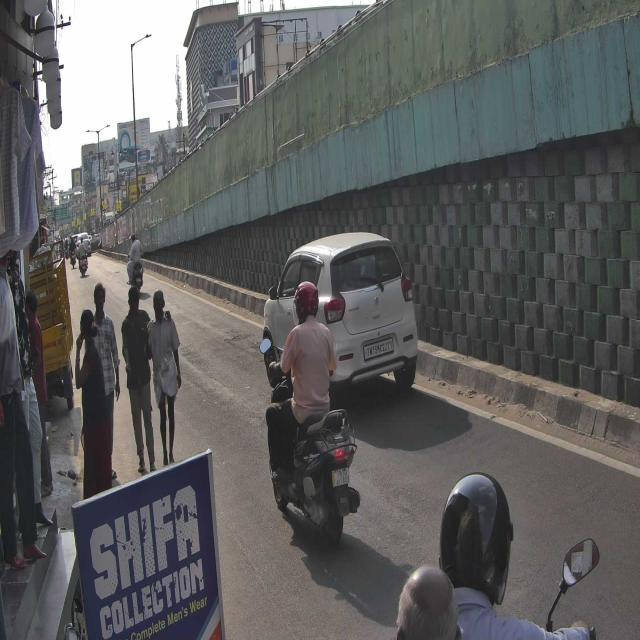single_rider: (259, 280, 362, 548)
